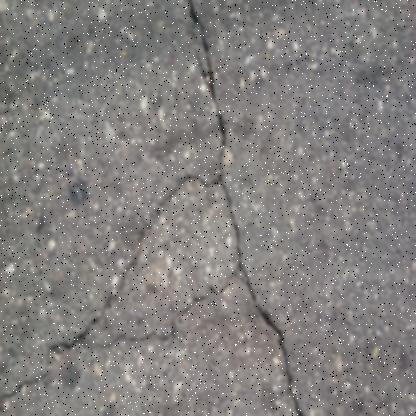Cracks: (0, 167, 246, 409), (185, 0, 305, 416)
